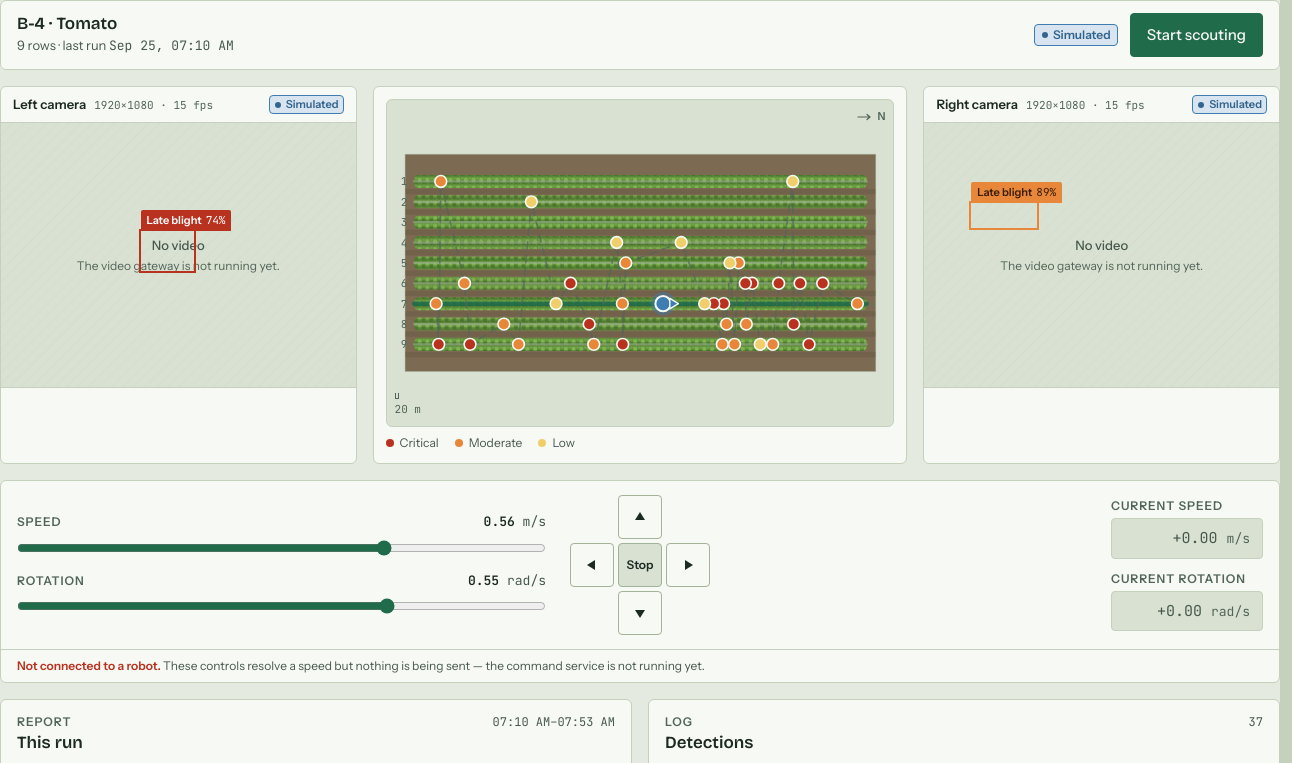
Test: ScoutWorkspace › refuses to start a scouting run it cannot start
The width and height of the screenshot is (1292, 763).
Click the button "Start scouting". click: (1196, 35)
box: [1130,13,1263,57]
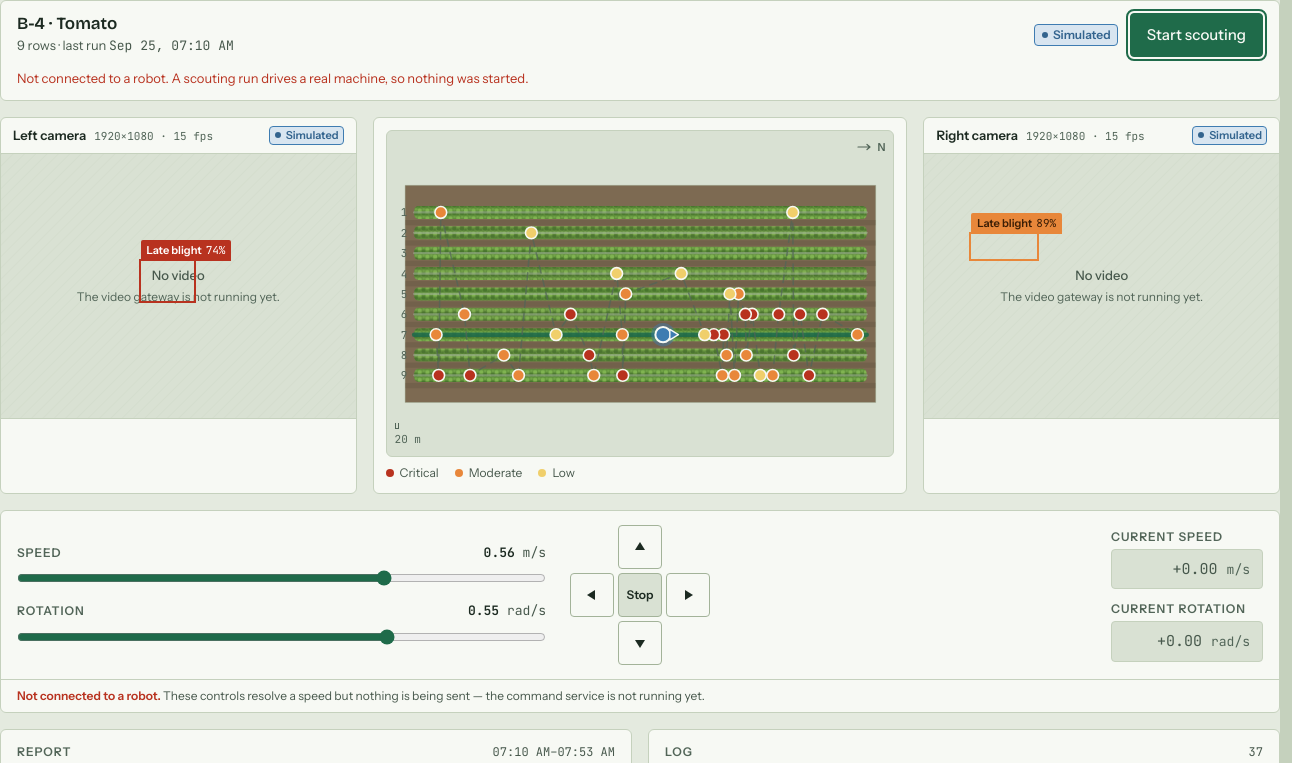
Expected: the 1st message shows "nothing was started", [17,70,528,86]
